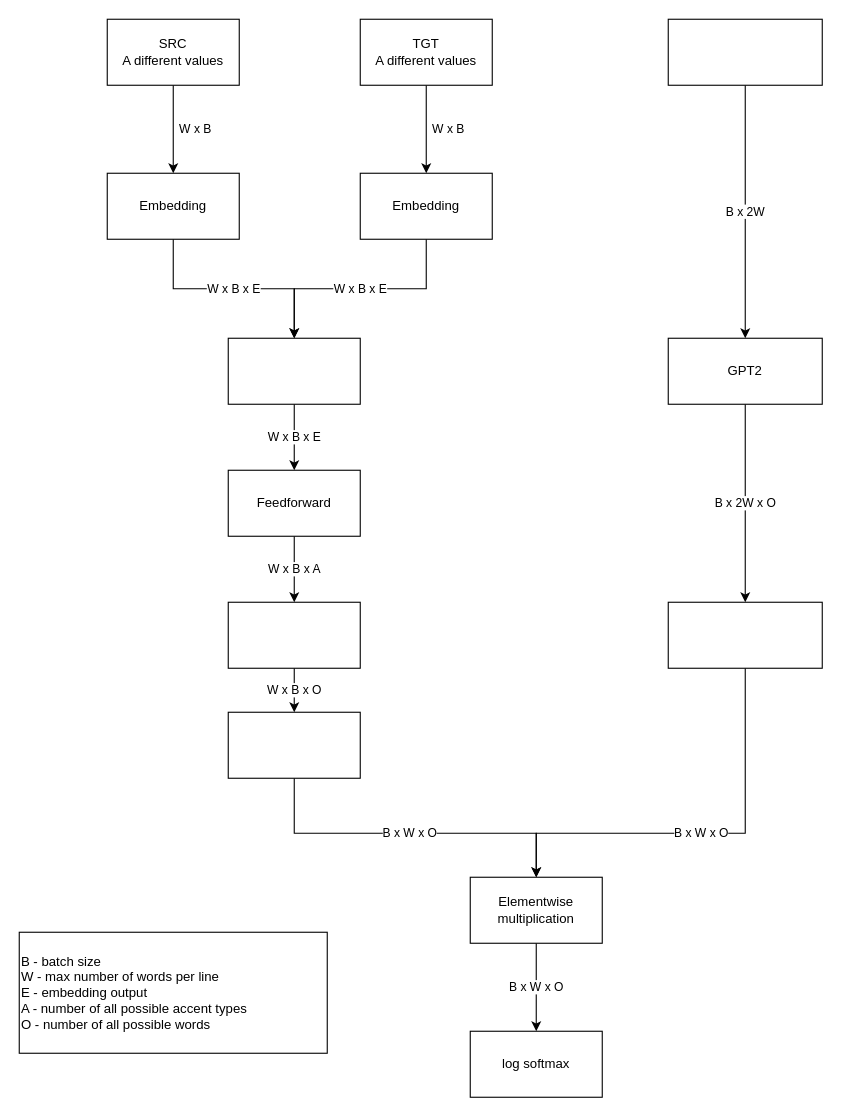
The diagram is 842 pixels wide and 1117 high, and some of its shapes have lost their labels. Here are the shapes that lost their labels. From the top down, the box of each, then its label:
(667, 18, 822, 85): GPT2 input 50000 different values
(227, 337, 360, 404): Transformer
(227, 601, 360, 668): Accent tokenizer
(667, 601, 822, 668): Remove first half (reference line)
(227, 711, 360, 778): Transpoze
